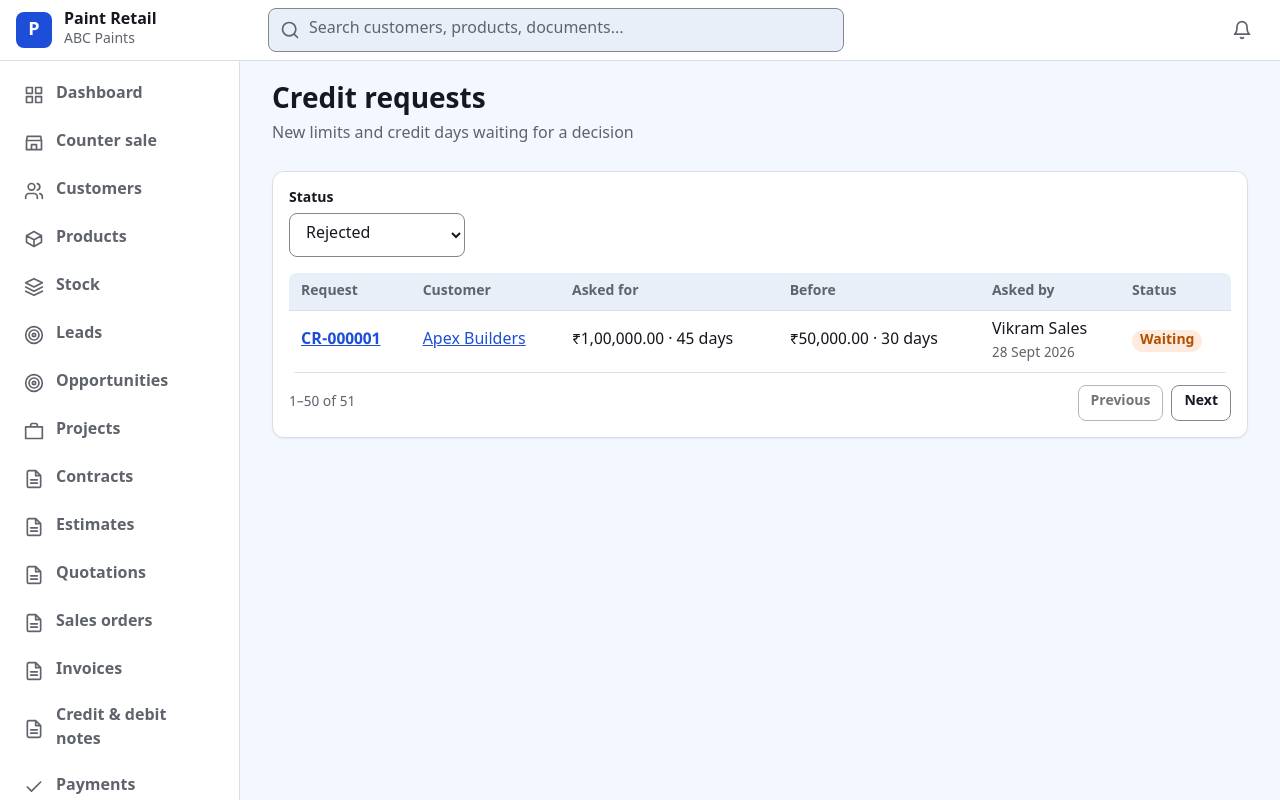
Test: CreditRequestsPage › pages, explains an empty list and hides deciding from those who cannot
Check: the table named "Credit requests" is shown, box [289,273,1231,373]
Check: the dropdown labelled "Status" shows "Rejected", box [289,213,465,257]
Click the button "Next". click: coordinates (1201, 403)
box: [1172,385,1231,421]
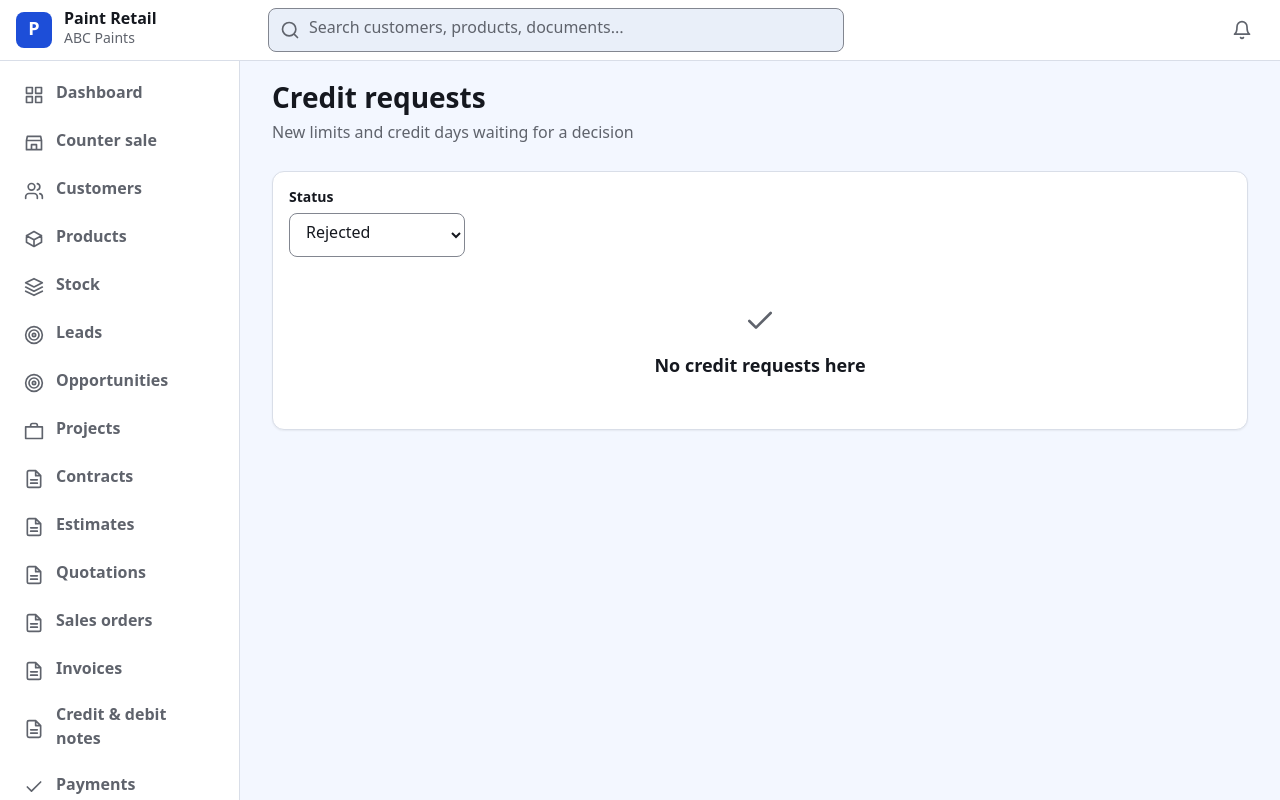
Check: the text "No credit requests here" is shown, box [654,354,866,381]
